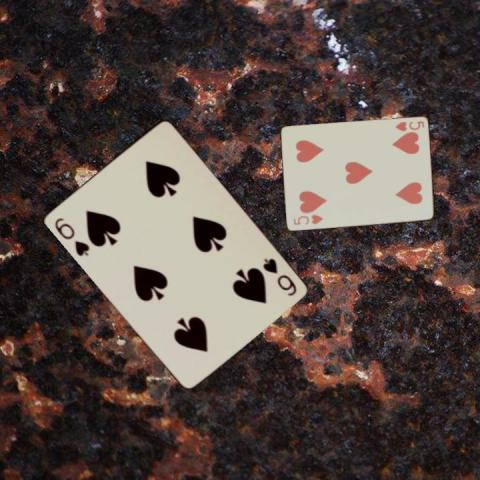5h: (291, 212, 324, 227), (392, 118, 425, 133)
6s: (51, 214, 90, 258), (259, 255, 298, 297)
